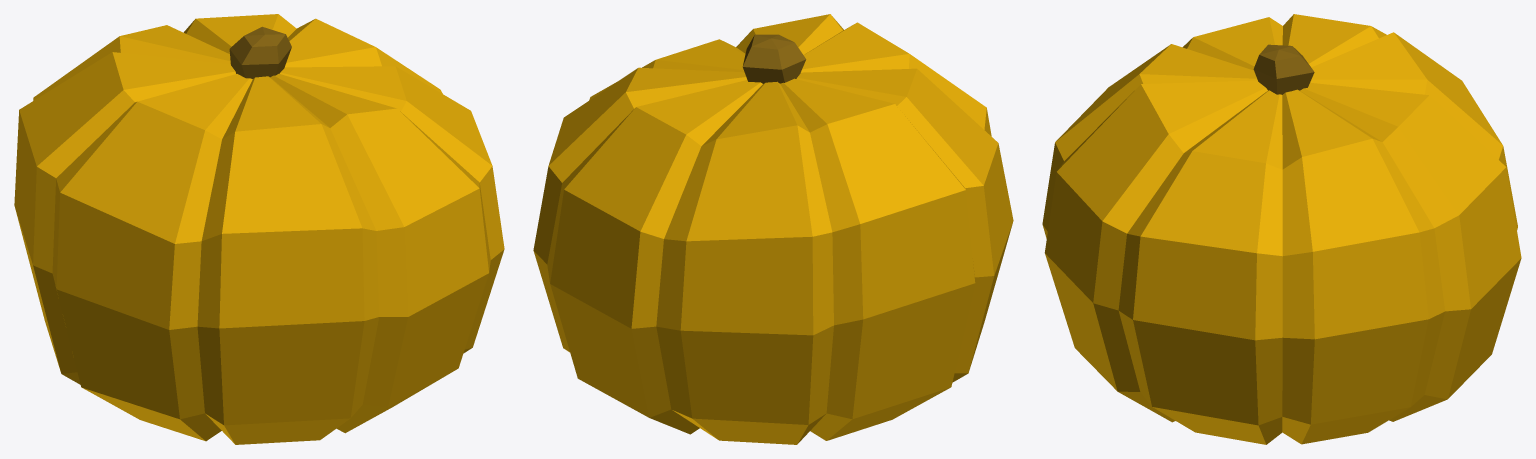
The model's file is Whole_Prop_Pumpkin_01.fbx.
The picture shows the model from 3 angles, left to right: view 1: azimuth 30°, elevation 25°; view 2: azimuth 150°, elevation 25°; view 3: azimuth 270°, elevation 25°; orthographic projection. The views are drawn at different scales.
Parts seen in each view (by area): view 1: Whole_Prop_Pumpkin_01; view 2: Whole_Prop_Pumpkin_01; view 3: Whole_Prop_Pumpkin_01.
Boxes of the visible parts, <box> form: Whole_Prop_Pumpkin_01: <box>14,14,504,444</box>; Whole_Prop_Pumpkin_01: <box>533,14,1013,444</box>; Whole_Prop_Pumpkin_01: <box>1042,14,1521,444</box>.
Size of the model in its own units: 54.41 by 42.91 by 54.53.
